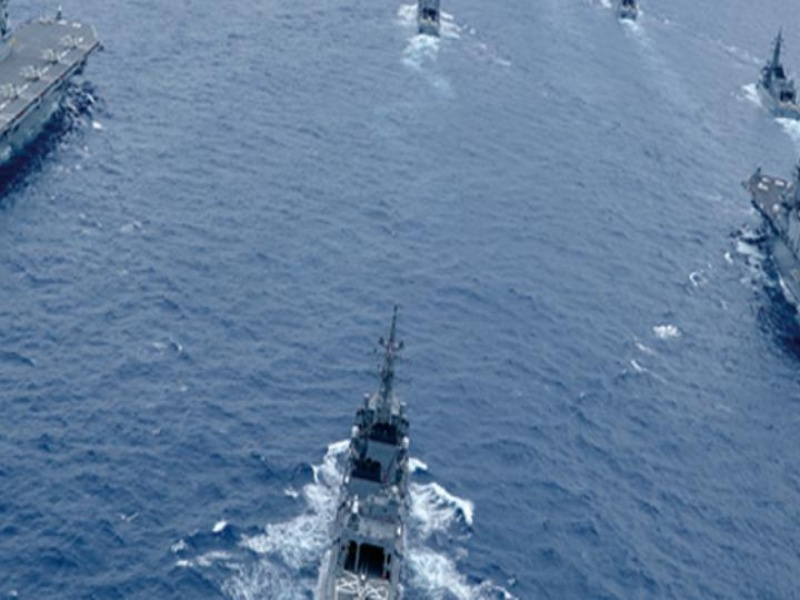carrier: (2, 12, 91, 171), (753, 171, 800, 308)
cruise: (324, 331, 411, 600), (751, 32, 797, 127), (398, 1, 459, 46), (601, 1, 646, 38)
